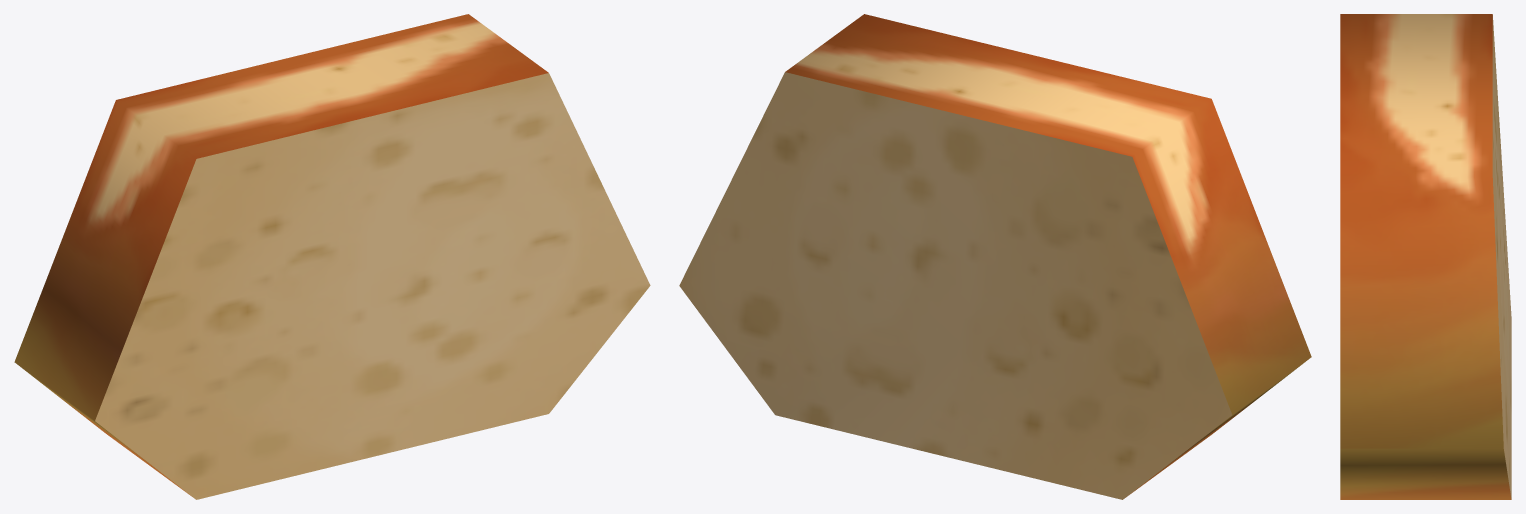
The model's file is SM_PROP_food_bread_06.FBX.
3 views of the same model, side by side, from view 1: azimuth 30°, elevation 25°; view 2: azimuth 150°, elevation 25°; view 3: azimuth 270°, elevation 25° (orthographic). The views are drawn at different scales.
Parts seen in each view (by area): view 1: SM_PROP_food_bread_06; view 2: SM_PROP_food_bread_06; view 3: SM_PROP_food_bread_06.
Part boxes in pixels (<box>): SM_PROP_food_bread_06: <box>14,14,650,499</box>; SM_PROP_food_bread_06: <box>679,14,1311,499</box>; SM_PROP_food_bread_06: <box>1340,14,1511,499</box>.
Bounding box in the file's own units: 24.01 × 6.77 × 14.08.
